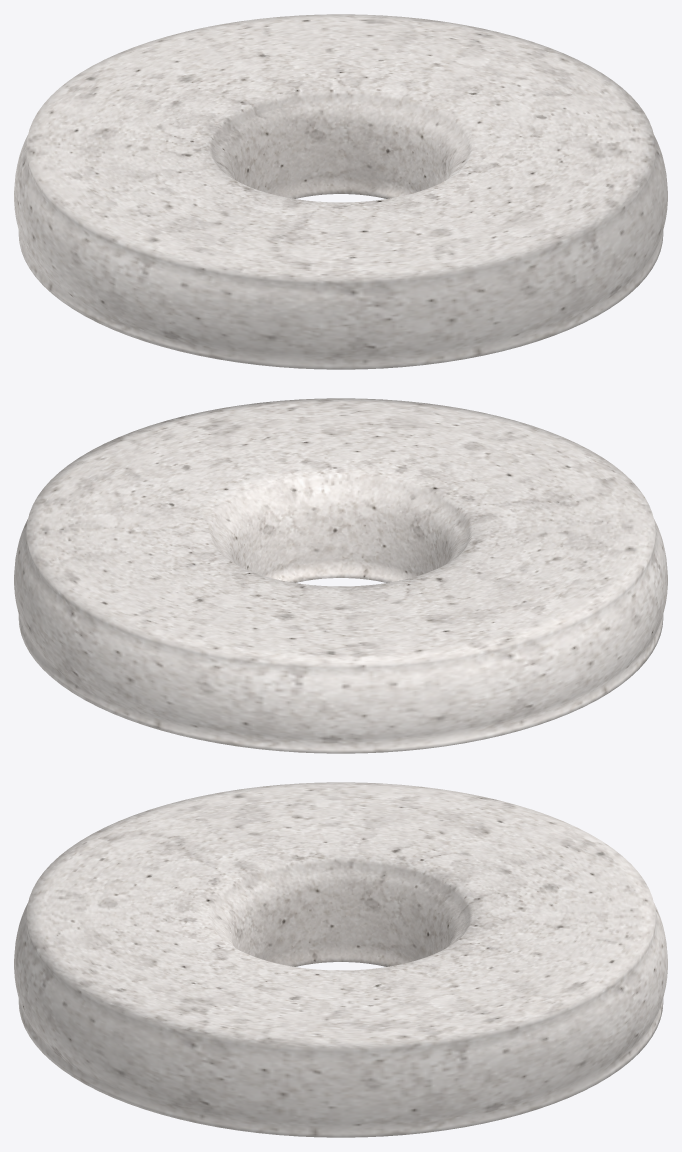
The model's file is tzaar-tzarra-white.glb.
3 renders of one model, top to bottom at view 1: azimuth 30°, elevation 25°; view 2: azimuth 150°, elevation 25°; view 3: azimuth 270°, elevation 25°, orthographic.
Visible parts, largest first — view 1: tzaar-tzarra-white; view 2: tzaar-tzarra-white; view 3: tzaar-tzarra-white.
Part boxes in pixels (x1,y1,x2,y2): tzaar-tzarra-white: [14, 14, 667, 369]; tzaar-tzarra-white: [14, 398, 667, 753]; tzaar-tzarra-white: [14, 782, 667, 1137].
Size of the model in its own units: 0.028 by 0.00435 by 0.028.
1 material, 1 textured.
